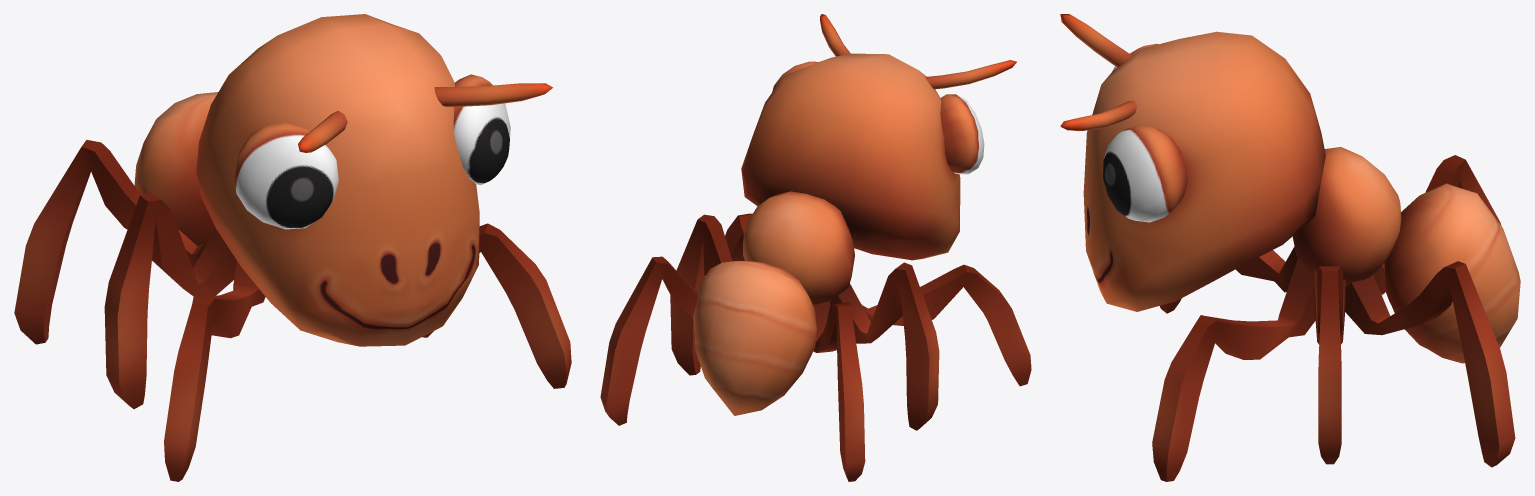
The model's file is ant.FBX.
The picture shows the model from 3 angles, left to right: view 1: azimuth 30°, elevation 25°; view 2: azimuth 150°, elevation 25°; view 3: azimuth 270°, elevation 25°; orthographic projection. The views are drawn at different scales.
Visible parts, largest first — view 1: ant; view 2: ant; view 3: ant.
Boxes of the visible parts, left/top/right/bottom form: ant: left=14, top=14, right=571, bottom=481; ant: left=600, top=14, right=1031, bottom=481; ant: left=1060, top=14, right=1520, bottom=481.
Size of the model in its own units: 38.02 by 34.78 by 41.01.
